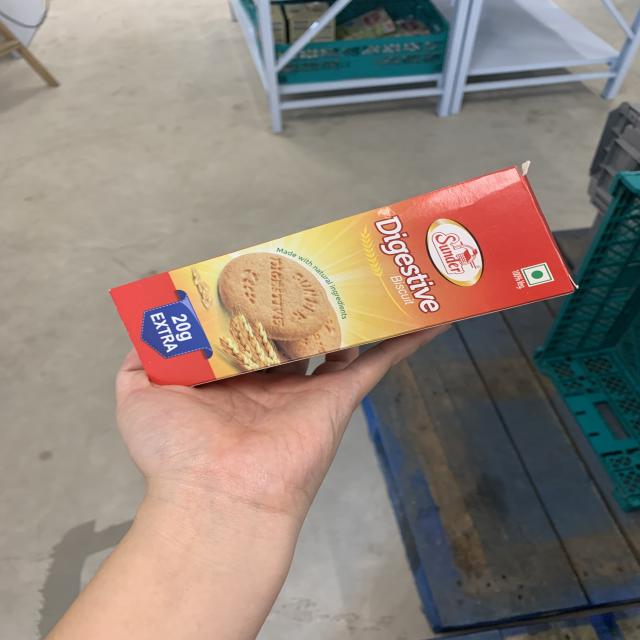object_name: (93, 165, 557, 359)
